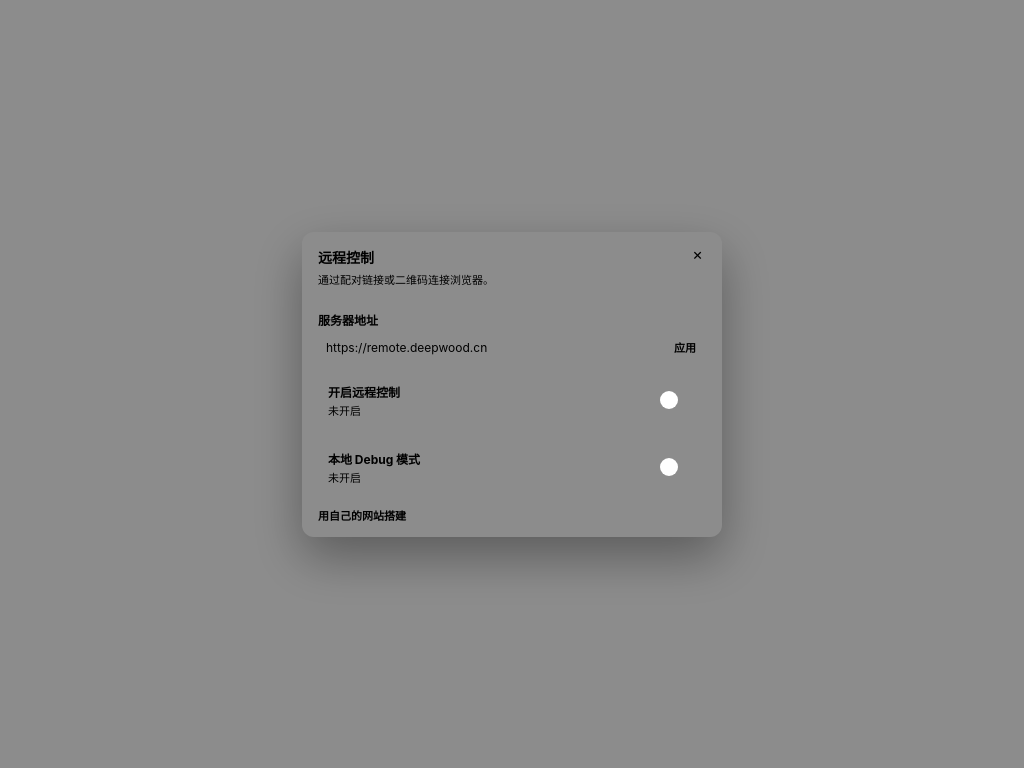
RemoteConnectionPanel › surfaces debug start errors
Click the switch named "本地 Debug 模式".
click(677, 467)  # box x1=658 y1=456 x2=696 y2=478
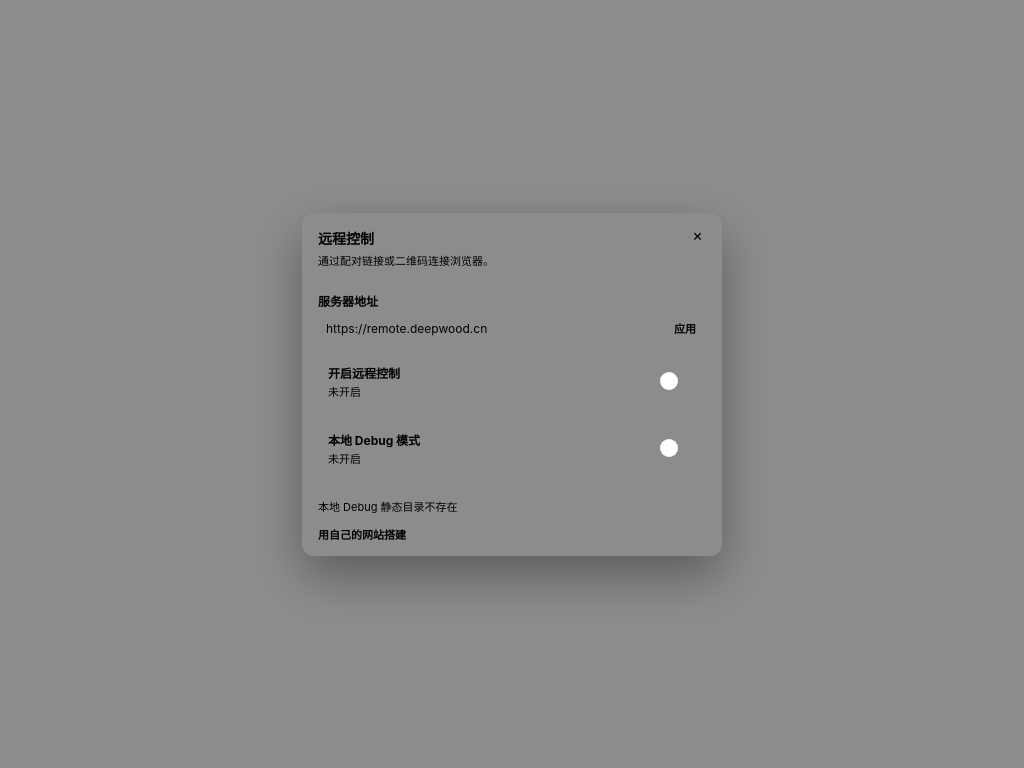
Now the message with test id "remote-debug-error" shows "静态目录", box x1=318 y1=500 x2=458 y2=514
